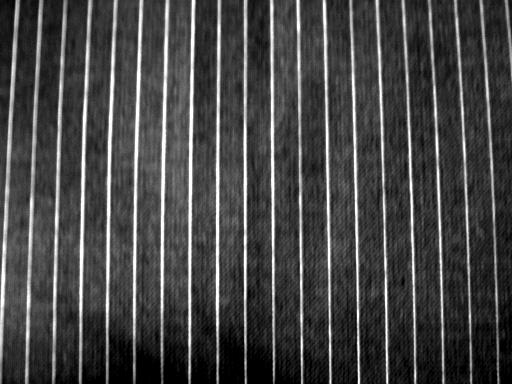fabric_perfect: (4, 0, 510, 384)
